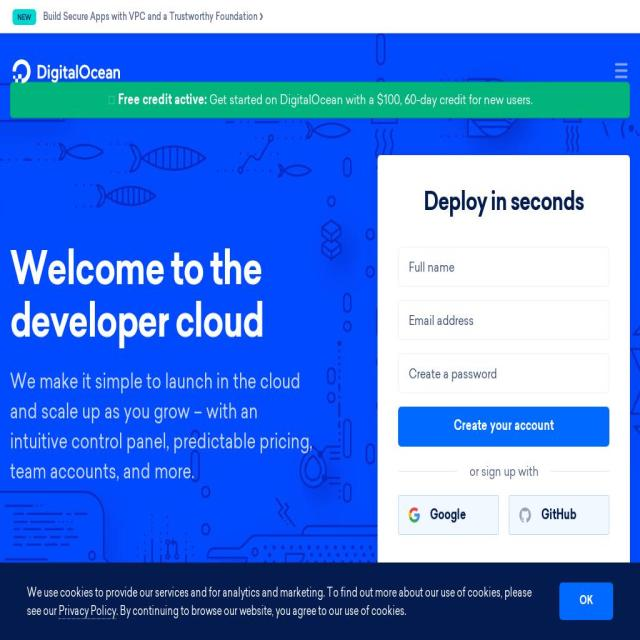button: (0, 10, 628, 26), (398, 406, 610, 446), (398, 495, 499, 535), (509, 495, 610, 535), (12, 58, 120, 84), (559, 582, 613, 620), (59, 603, 116, 619), (615, 63, 627, 79)
field: (398, 246, 610, 286), (398, 300, 610, 340), (398, 354, 610, 394)
heading: (10, 246, 315, 352), (398, 189, 610, 220)
image: (12, 58, 120, 84), (615, 63, 627, 79)
link: (43, 9, 263, 23), (528, 563, 588, 575)
text: (10, 365, 315, 486), (27, 584, 532, 618), (207, 91, 532, 107), (398, 460, 610, 482), (116, 602, 406, 618), (418, 563, 528, 575), (117, 94, 207, 108), (430, 509, 467, 523), (542, 509, 578, 523), (13, 8, 36, 25), (108, 91, 118, 107)
